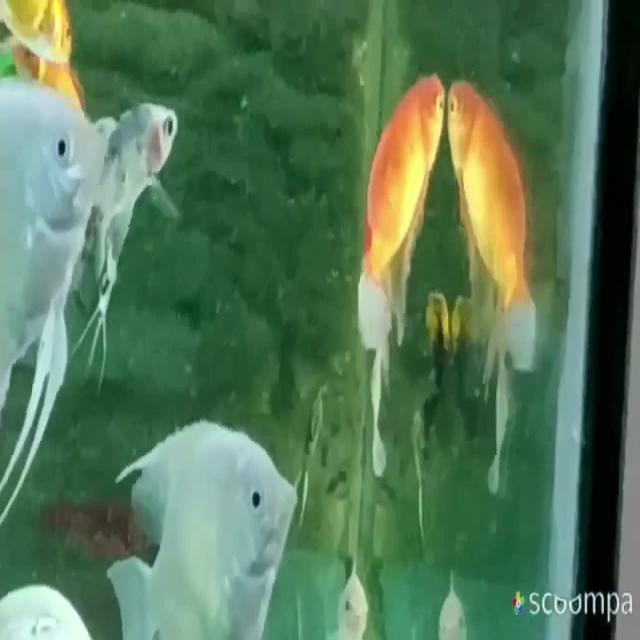GoldFish: (353, 44, 447, 346), (450, 72, 540, 372)
